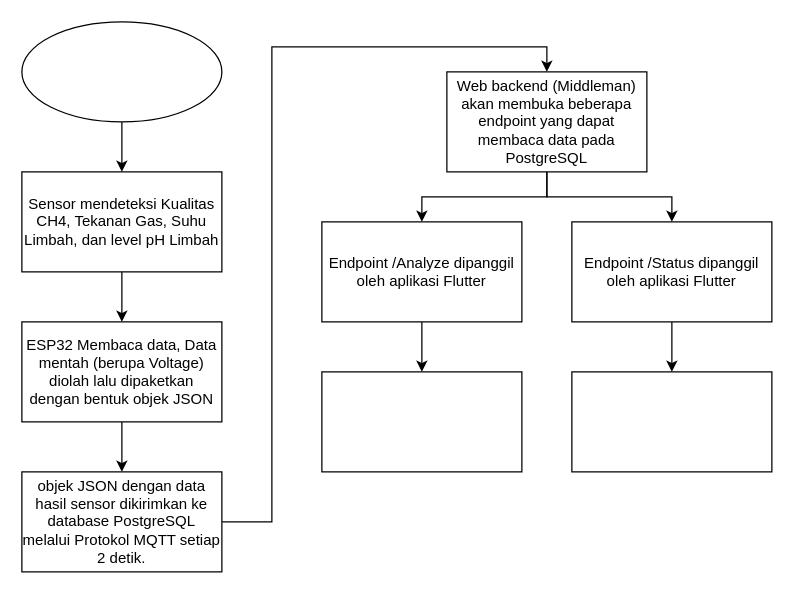
Image size: 794x594. Some labels were removed from this diagram. Here are the shapes that lost their labels. From the top down, the centre of each, then its label:
At point (121, 71): "Start".
At point (421, 421): "Aplikasi Flutter memperbarui tampilan dengan menampilkan Hasil analisis AI".
At point (671, 421): "Aplikasi Flutter akan memperbarui status sisa Gas dan hasil Sensor tiap 1 detik".
